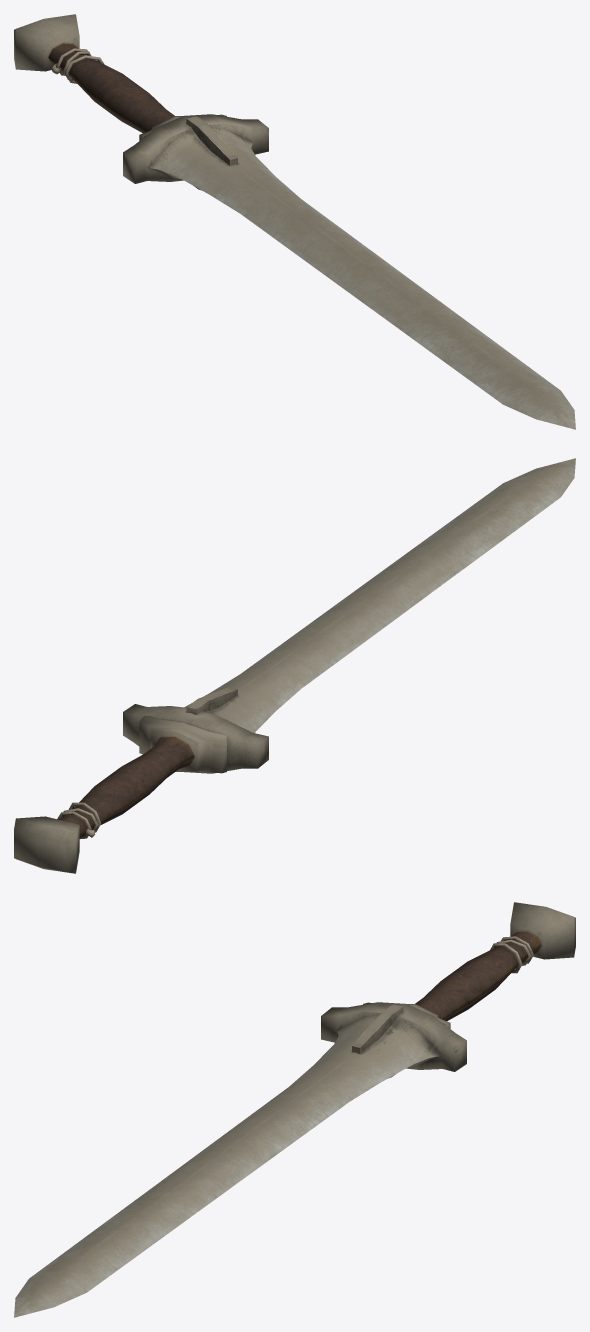
File: Warrior_Lv1_Sword.fbx
3 renders of one model, top to bottom at view 1: azimuth 30°, elevation 25°; view 2: azimuth 150°, elevation 25°; view 3: azimuth 330°, elevation 25°, orthographic.
Visible parts, largest first — view 1: Sword_003; view 2: Sword_003; view 3: Sword_003.
Boxes of the visible parts, x1=… form: Sword_003: x1=14, y1=14, x2=575, y2=429; Sword_003: x1=14, y1=458, x2=575, y2=873; Sword_003: x1=14, y1=902, x2=575, y2=1317.
Size of the model in its own units: 10.65 by 4.68 by 73.35.
